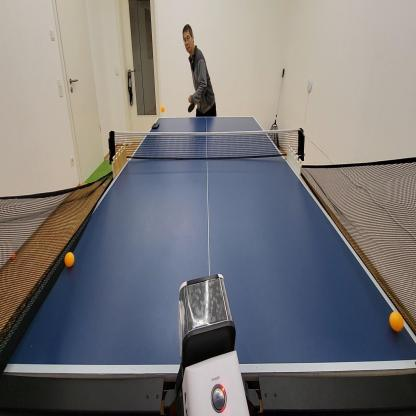Ball: (387, 310, 405, 334), (63, 250, 75, 270), (10, 250, 17, 262), (160, 102, 166, 116), (102, 182, 106, 191)
